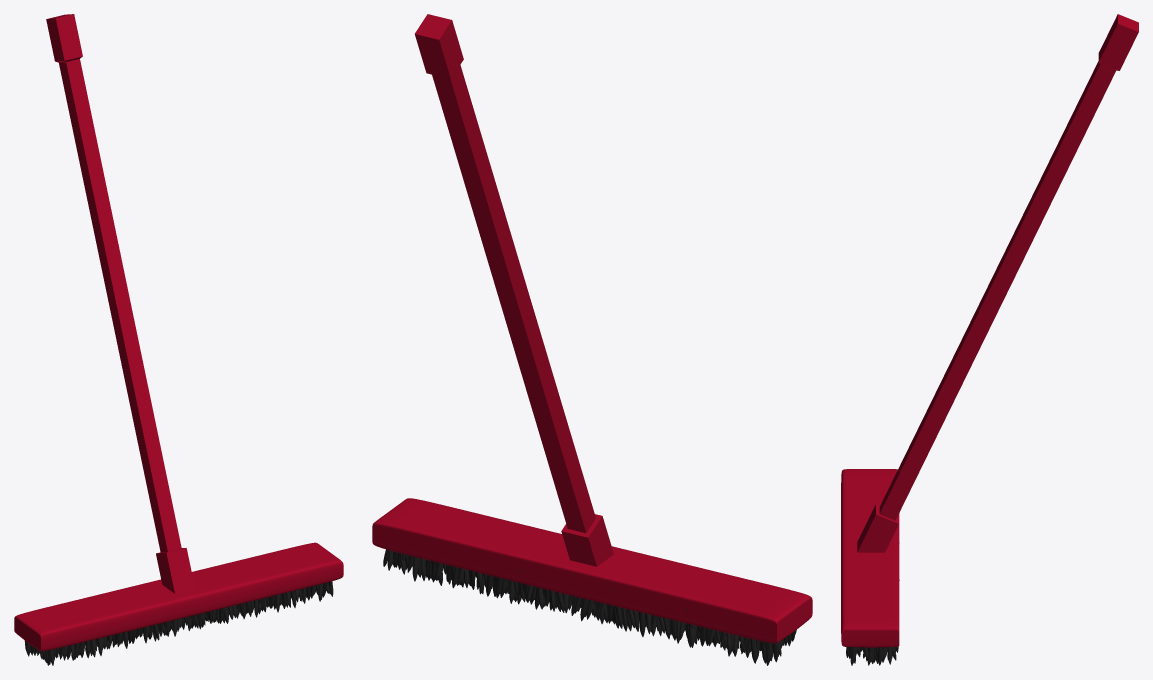
The model's file is lowpolyBroom.fbx.
3 renders of one model, left to right at view 1: azimuth 30°, elevation 25°; view 2: azimuth 150°, elevation 25°; view 3: azimuth 270°, elevation 25°, orthographic. The views are drawn at different scales.
Visible parts, largest first — view 1: Cube.001, Cube; view 2: Cube, Cube.001; view 3: Cube.001, Cube.
Boxes of the visible parts, box(x1,y1,x2,y2) form: Cube.001: box(46, 14, 194, 593); Cube: box(14, 542, 343, 651); Cube: box(372, 498, 812, 643); Cube.001: box(415, 14, 613, 566); Cube.001: box(857, 14, 1138, 552); Cube: box(841, 469, 899, 647).
Size of the model in its own units: 594 by 988 by 466.
